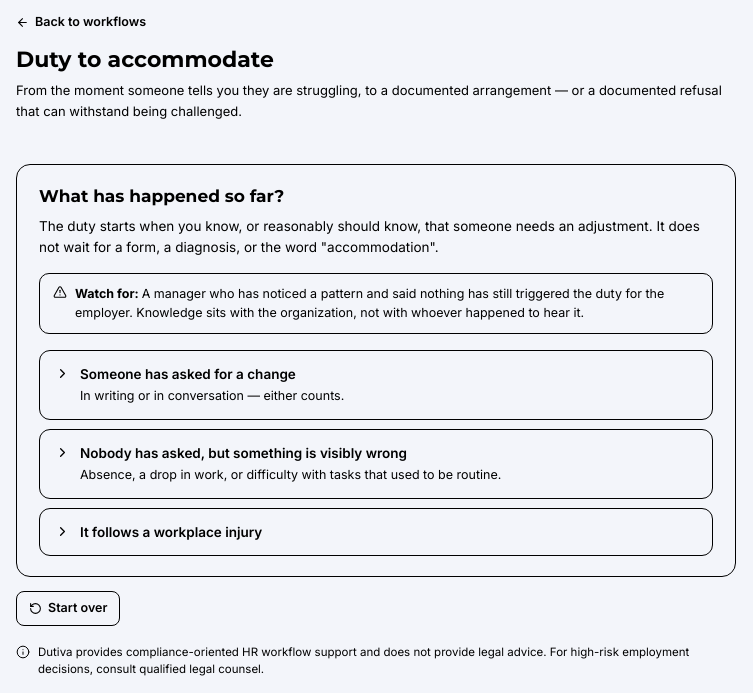
Test: FlowRunner › returns to a clean choice when stepping back
Click the button "Someone has asked for a change". click: coordinates (188, 374)
box: [39,350,713,420]
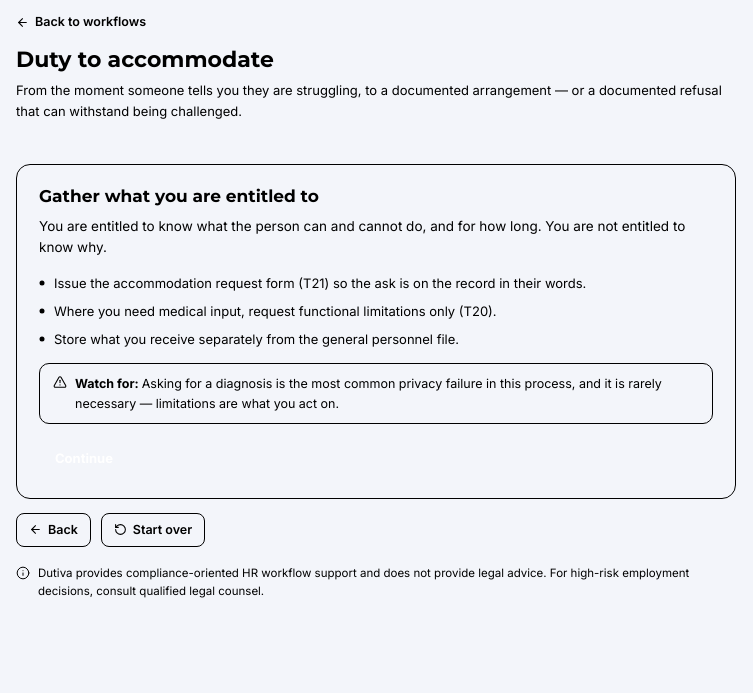
Click the button "Back". click: coordinates (53, 530)
box: [16,512,91,547]
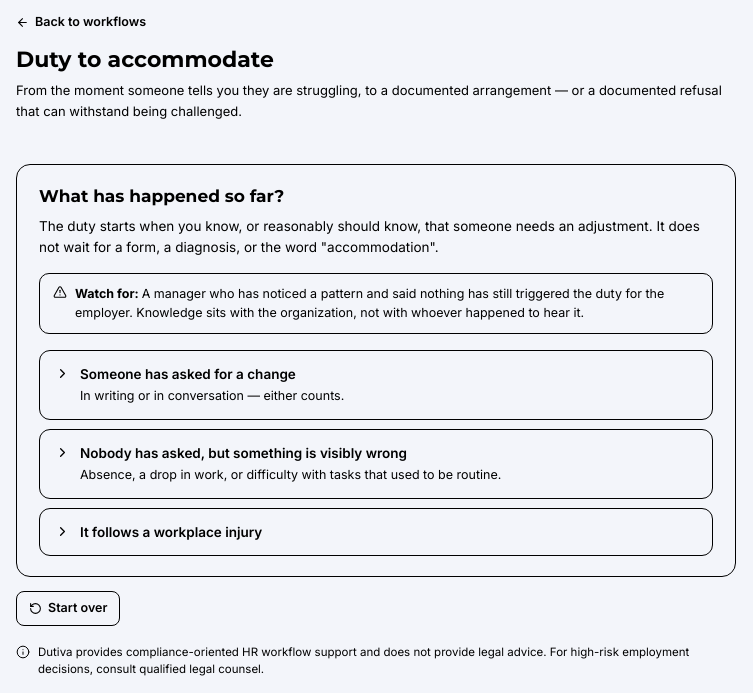
Expected: the button "Someone has asked for a change" is shown, [39,350,713,420]
Expected: the button "Nobody has asked" is shown, [39,429,713,499]
